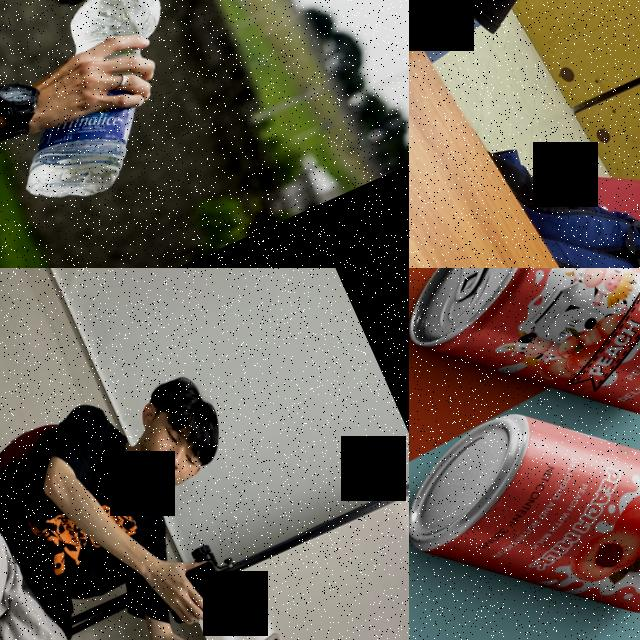bottle: (0, 0, 227, 220)
can: (409, 333, 640, 640), (409, 268, 640, 500)
